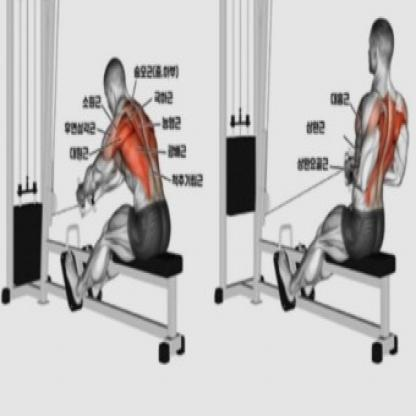Seated Cable Rows: (211, 1, 416, 370), (0, 0, 199, 372)
